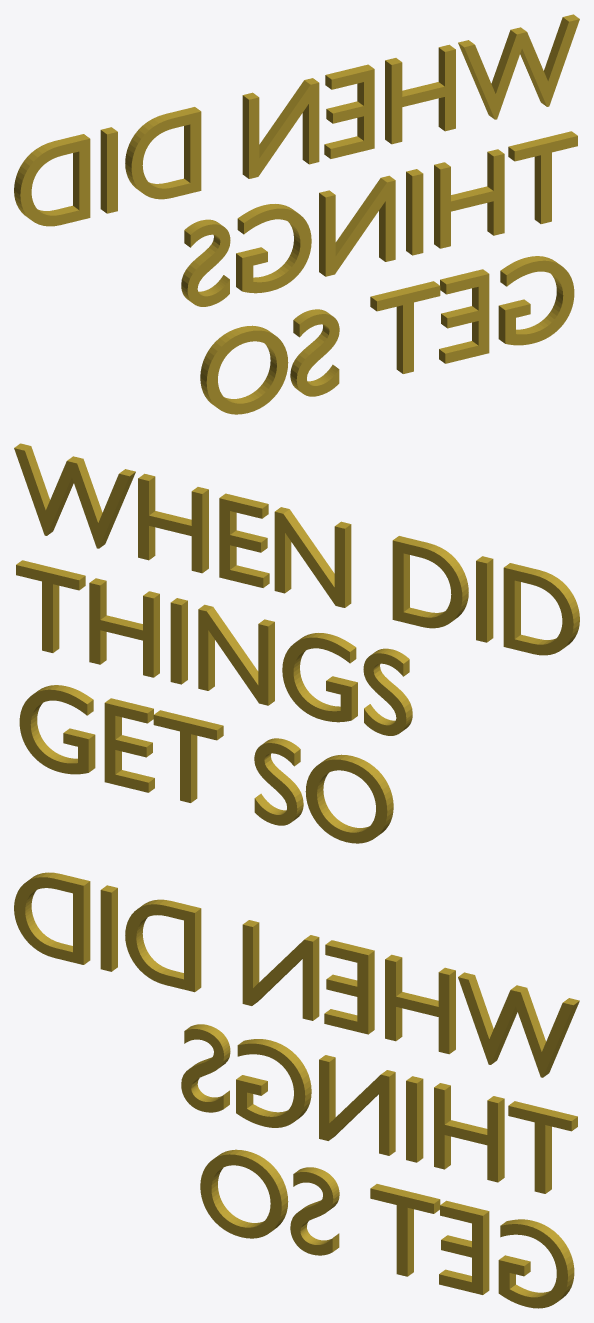
The picture shows the model from 3 angles, top to bottom: view 1: azimuth 30°, elevation 25°; view 2: azimuth 150°, elevation 25°; view 3: azimuth 330°, elevation 25°; orthographic projection.
Visible parts, largest first — view 1: Text.001; view 2: Text.001; view 3: Text.001.
Boxes of the visible parts, x1,y1,x2,y2 form: Text.001: [14, 14, 579, 414]; Text.001: [14, 443, 579, 843]; Text.001: [14, 872, 579, 1308].
Size of the model in its own units: 5.03 by 2.69 by 0.1.
